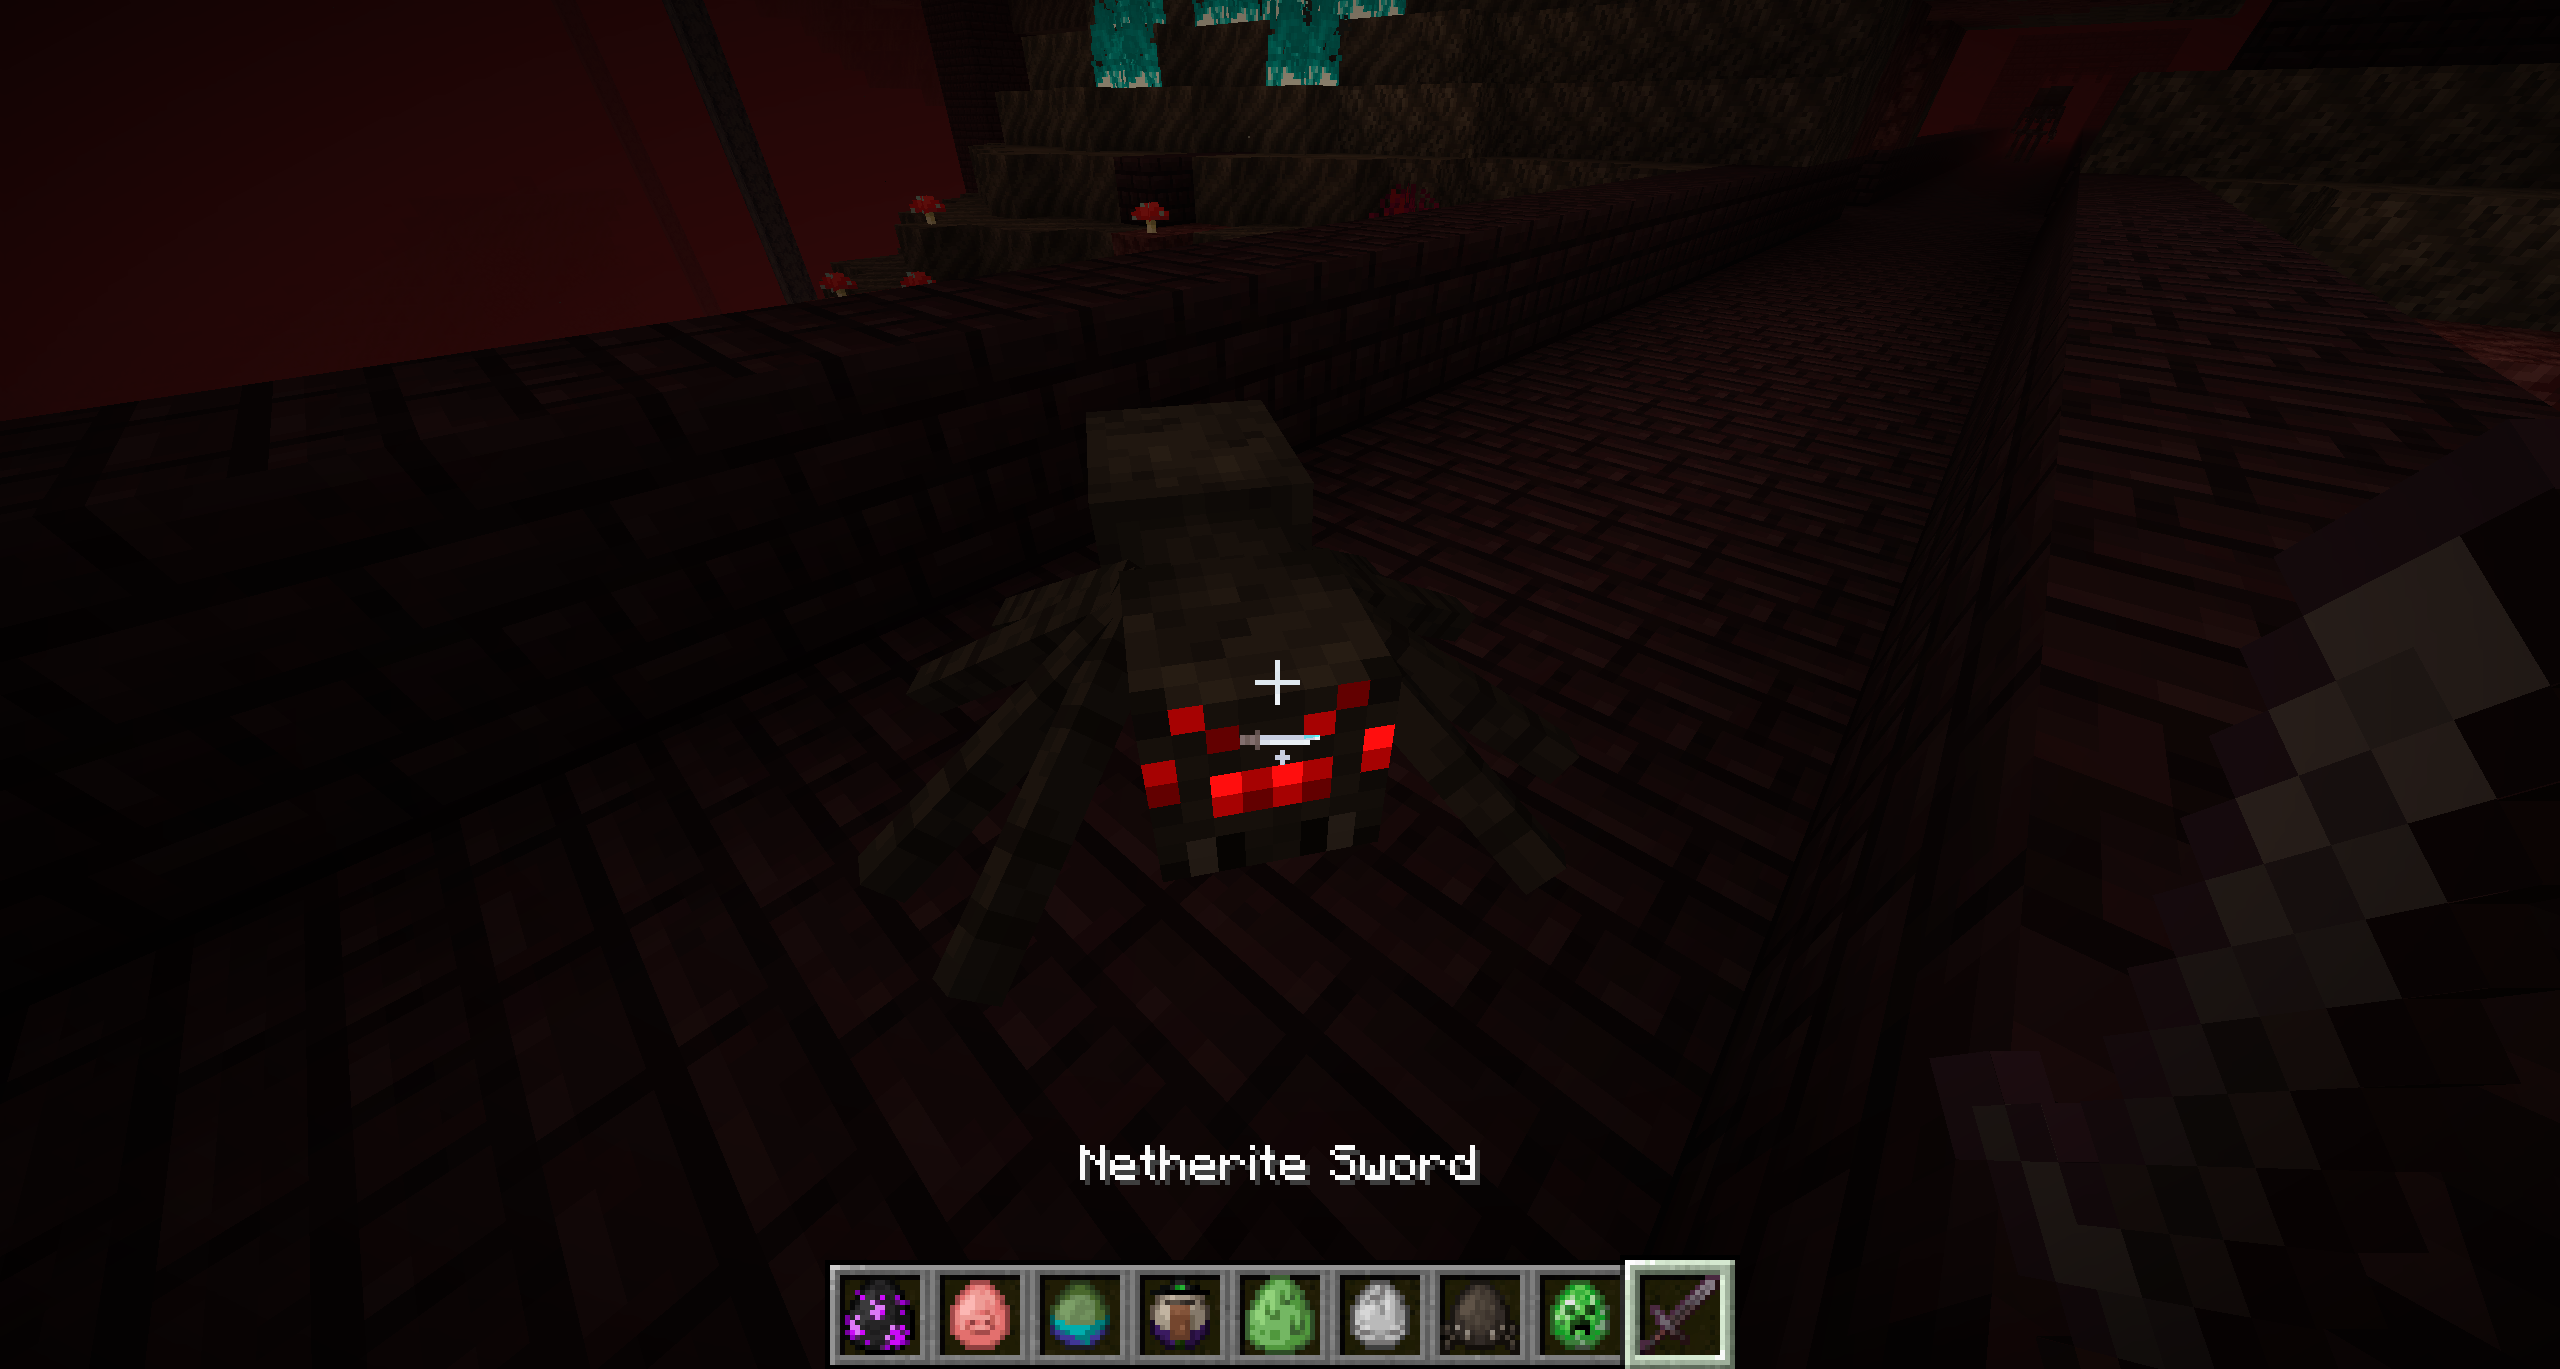araignees: (896, 364, 1534, 985)
